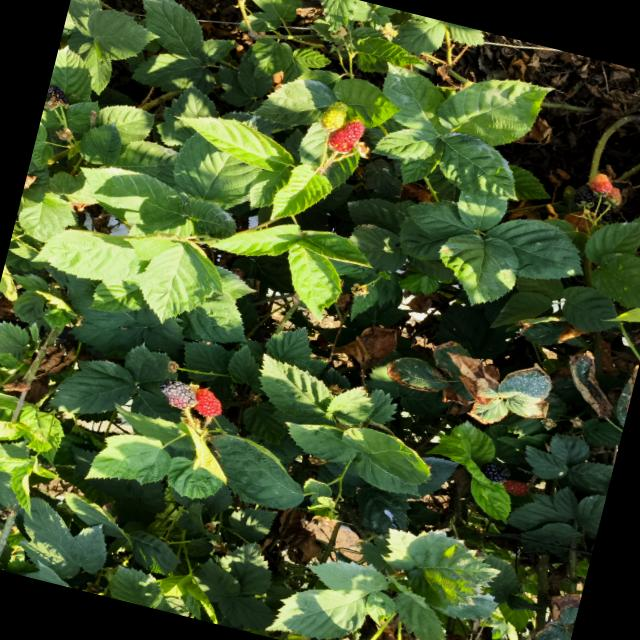maduro: (480, 463, 508, 482), (573, 184, 595, 204)
marron: (160, 379, 196, 409)
naranja: (328, 120, 365, 152), (195, 389, 222, 417), (589, 173, 613, 195), (502, 479, 527, 496), (608, 187, 621, 205)
verde: (320, 101, 347, 131)
